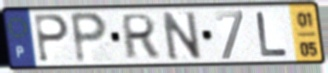7: (214, 9, 246, 60)
L: (254, 10, 291, 58)
N: (159, 10, 205, 63)
P: (68, 10, 110, 66), (32, 13, 71, 65)
R: (121, 12, 161, 61)
